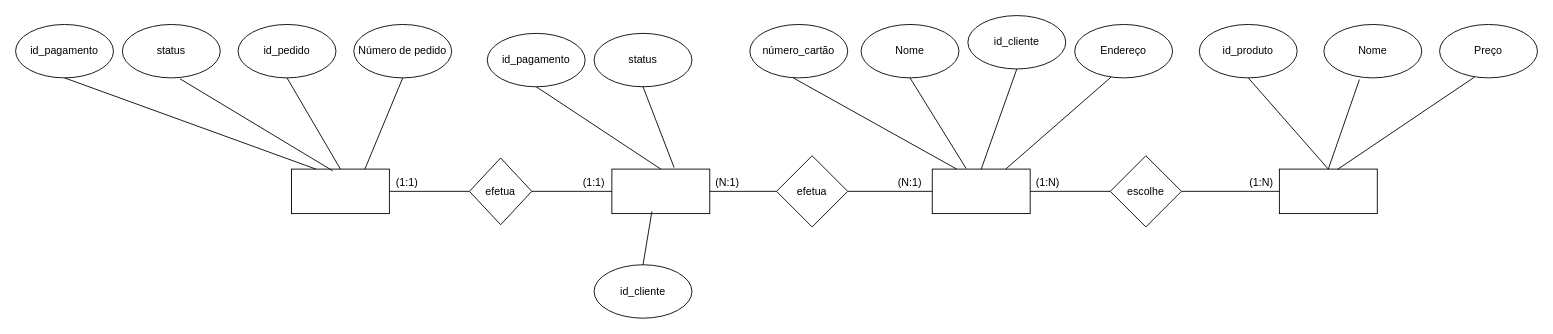
Some shapes in this 1553 by 334 pixel diagram are drawn without their labels. The shapes that lost their labels are listed below. From the top down, each one's centre as x and y in pixels, then its label:
At (x=340, y=191): "Pedido".
At (x=660, y=191): "Pagamento".
At (x=980, y=191): "Cliente".
At (x=1327, y=191): "Produto".
